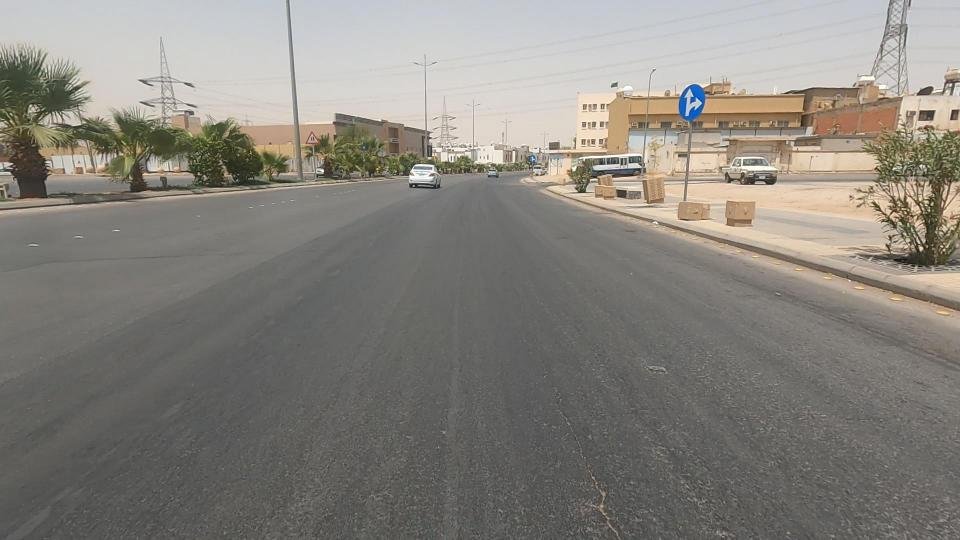GARBAGE: (635, 204, 673, 241)
